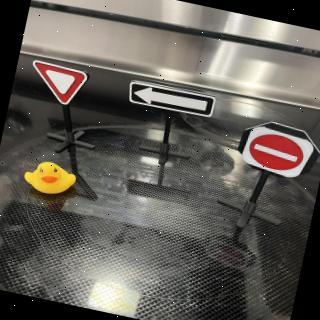duck_regular: (22, 159, 80, 201)
sign_noentry: (237, 121, 320, 184)
sign_oneway_left: (126, 81, 217, 122)
sign_yield: (25, 61, 91, 114)
